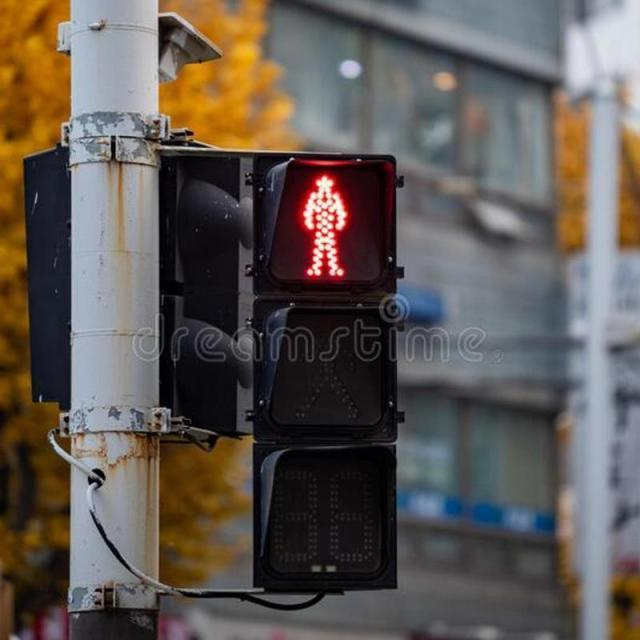red-crossing: (294, 176, 357, 276)
